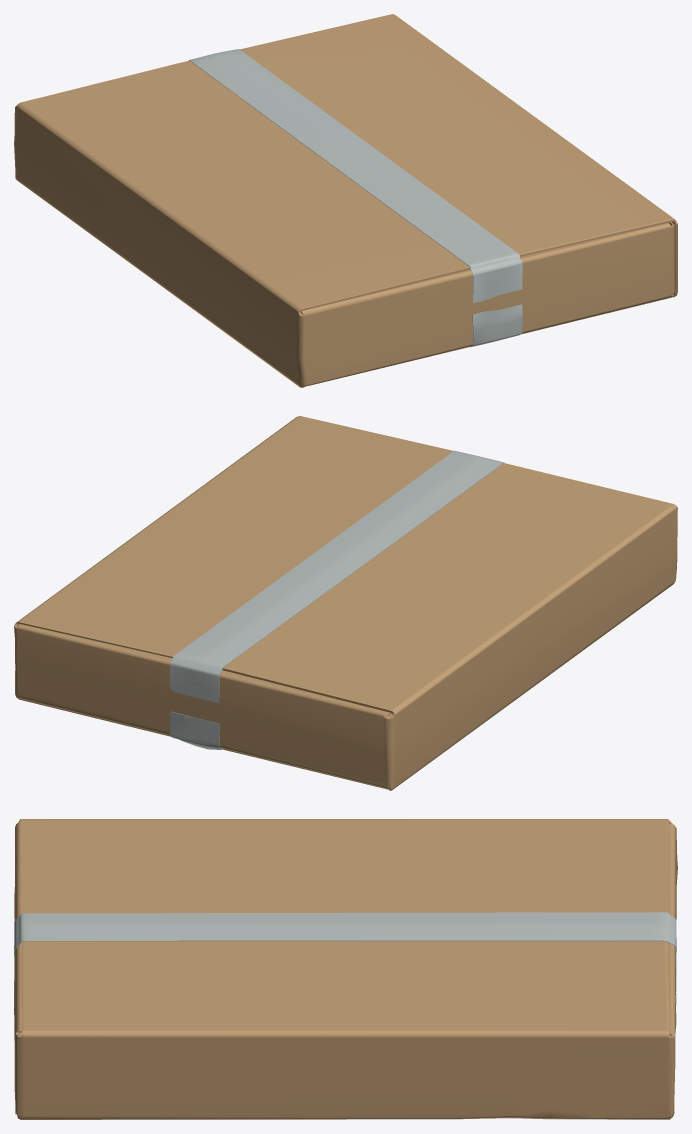
The model's file is box_printer_brown_b06.glb.
3 views of the same model, one above another, from view 1: azimuth 30°, elevation 25°; view 2: azimuth 150°, elevation 25°; view 3: azimuth 270°, elevation 25° (orthographic). The views are drawn at different scales.
Bounding box in the file's own units: 0.2333 × 0.0511 × 0.3062.
